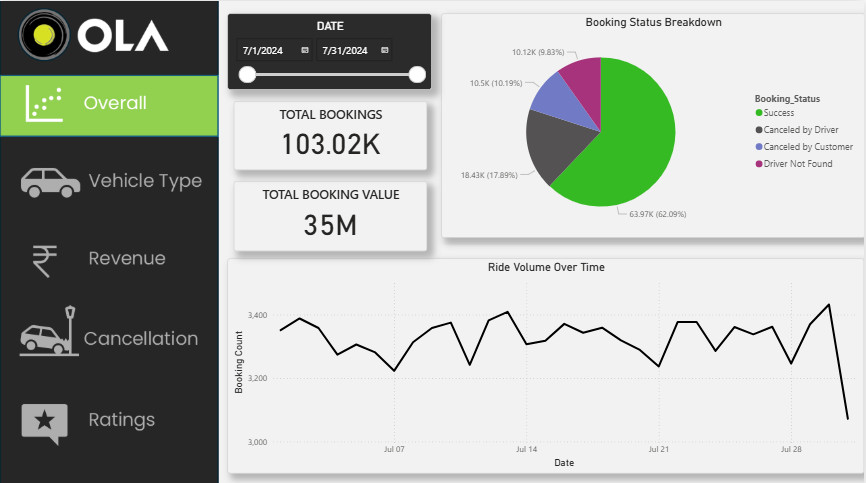

The page's visual inventory and layout, read from the dashboard file:
{"tool":"powerbi","page":{"name":"Overall","canvas":[1280,720],"ordinal":0},"visuals":[{"type":"actionButton","box":[0,223.6,325,90.3],"z":0},{"type":"actionButton","box":[0,336.1,325,90.3],"z":1000},{"type":"actionButton","box":[0,441.7,325,101.4],"z":2000},{"type":"actionButton","box":[0,576.4,325,101.4],"z":3000},{"type":"lineChart","title":"Ride Volume Over Time","fields":{"Category":["July.Date"],"Y":["CountNonNull(July.Booking_ID)"]},"box":[337.5,381.9,943.1,318.1],"z":4000},{"type":"pieChart","title":"Booking Status Breakdown","fields":{"Category":["July.Booking_Status"],"Y":["CountNonNull(July.Booking_Status)"]},"box":[652.8,18.1,627.8,331.9],"z":5000},{"type":"slicer","title":"DATE","fields":{"Values":["July.Date"]},"box":[337.5,18.1,302.8,112.5],"z":6000},{"type":"card","title":"TOTAL BOOKINGS","fields":{"Values":["Count(July.Booking_ID)"]},"box":[345.8,147.2,286.1,102.8],"z":6001},{"type":"card","title":"TOTAL BOOKING VALUE","fields":{"Values":["Sum(July.Booking_Value)"]},"box":[345.8,266.7,286.1,104.2],"z":6002}]}

Visuals, with their boxes in screenshot pixels (x1, y1, x2, y2), scaled from the page's 1280x720 canvas onto the 866x483 screenshot:
actionButton: [left=0, top=150, right=220, bottom=211]
actionButton: [left=0, top=225, right=220, bottom=286]
actionButton: [left=0, top=296, right=220, bottom=364]
actionButton: [left=0, top=387, right=220, bottom=455]
"Ride Volume Over Time" lineChart: [left=228, top=256, right=865, bottom=470]
"Booking Status Breakdown" pieChart: [left=442, top=12, right=865, bottom=235]
"DATE" slicer: [left=228, top=12, right=433, bottom=88]
"TOTAL BOOKINGS" card: [left=234, top=99, right=428, bottom=168]
"TOTAL BOOKING VALUE" card: [left=234, top=179, right=428, bottom=249]
